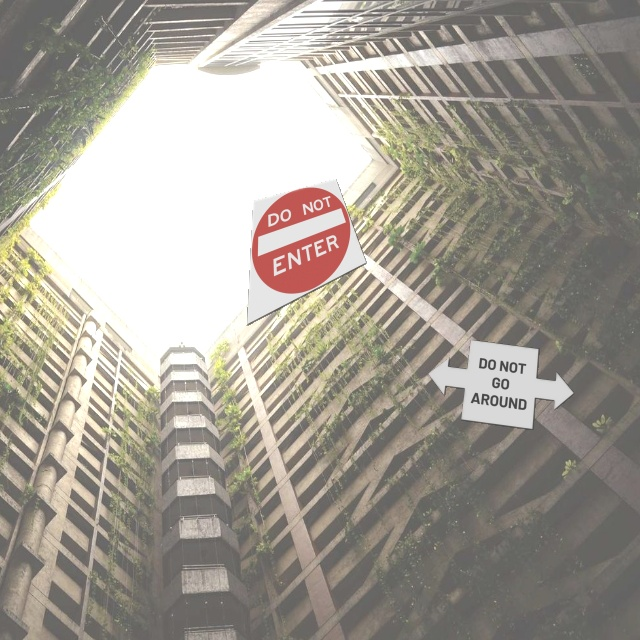DO_NOT_ENTER: (246, 178, 367, 326)
DO_NOT_GO_AROUND: (427, 339, 575, 430)
